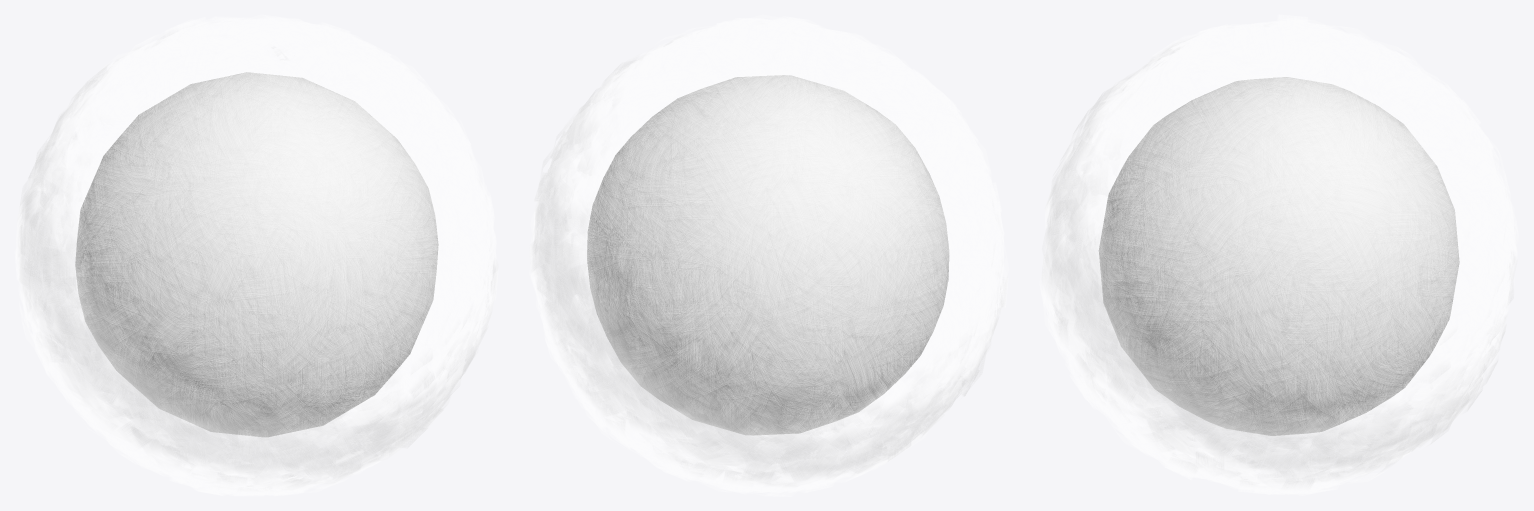
3 renders of one model, left to right at view 1: azimuth 30°, elevation 25°; view 2: azimuth 150°, elevation 25°; view 3: azimuth 270°, elevation 25°, orthographic.
Visible parts, largest first — view 1: Icosphere.001, strands.3720, strands.244, strands.1908, strands.4140, strands.4180, strands.3956, strands.1608, strands.568, strands.2605, strands.1774, strands.2712 (+155 smaller); view 2: Icosphere.001, strands.1967, strands.3224, strands.4686, strands.574, strands.205, strands.3417, strands.3208, strands.4081, strands.2085, strands.2376, strands.2480 (+157 smaller); view 3: Icosphere.001, strands.2388, strands.2486, strands.2575, strands.2995, strands.806, strands.2446, strands.3124, strands.3425, strands.2468, strands.497, strands.374 (+140 smaller).
Part boxes in pixels (x1,y1,x2,y2): Icosphere.001: (75, 72, 438, 437); strands.3720: (163, 162, 228, 192); strands.244: (319, 237, 365, 298); strands.1908: (90, 303, 146, 350); strands.4140: (157, 218, 211, 270); strands.4180: (110, 200, 146, 261); strands.3956: (246, 220, 289, 275); strands.1608: (281, 196, 339, 245); strands.568: (276, 129, 334, 157); strands.2605: (97, 267, 145, 315); strands.1774: (194, 263, 234, 320); strands.2712: (279, 155, 320, 205); Icosphere.001: (587, 75, 949, 435); strands.1967: (714, 205, 774, 260); strands.3224: (694, 275, 732, 345); strands.4686: (738, 168, 787, 225); strands.574: (666, 224, 722, 279); strands.205: (792, 273, 850, 315); strands.3417: (772, 128, 804, 181); strands.3208: (768, 188, 831, 222); strands.4081: (865, 251, 896, 307); strands.2085: (639, 202, 672, 258); strands.2376: (652, 252, 692, 309); strands.2480: (646, 290, 679, 345); Icosphere.001: (1098, 77, 1459, 435); strands.2388: (1248, 175, 1308, 208); strands.2486: (1194, 193, 1249, 253); strands.2575: (1337, 184, 1397, 223); strands.2995: (1157, 195, 1206, 255); strands.806: (1230, 224, 1288, 281); strands.2446: (1339, 228, 1384, 292); strands.3124: (1230, 318, 1279, 369); strands.3425: (1332, 214, 1377, 275); strands.2468: (1265, 367, 1310, 417); strands.497: (1325, 317, 1355, 371); strands.374: (1221, 122, 1280, 171).
Bounding box in the file's own units: 0.0301 × 0.0302 × 0.0302.
2 materials, 1 textured.
